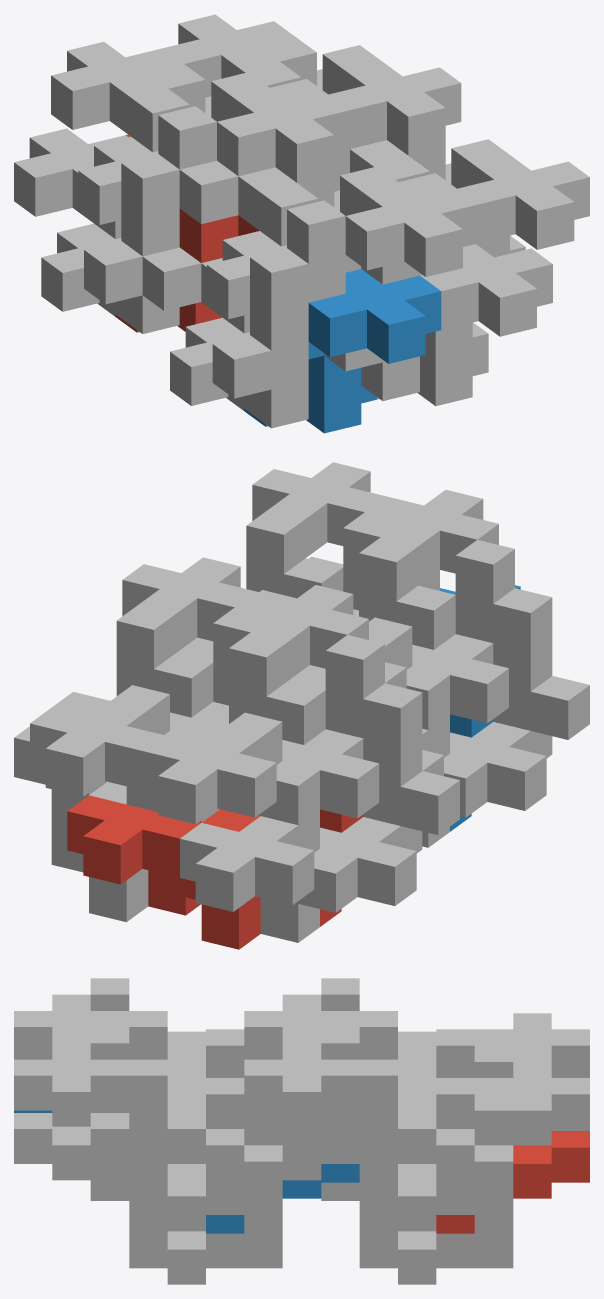
Rendered from tiling.obj.
The picture shows the model from 3 angles, top to bottom: view 1: azimuth 30°, elevation 25°; view 2: azimuth 150°, elevation 25°; view 3: azimuth 270°, elevation 25°; orthographic projection. The views are drawn at different scales.
Parts seen in each view (by area): view 1: copy_3_domain_2, copy_4_domain_4, copy_3_domain_4, copy_4_domain_3, copy_4_domain_2, copy_3_domain_1, copy_4_domain_8, copy_4_domain_7, copy_4_domain_6, copy_3_domain_3, copy_2_domain_3, copy_2_domain_4 (+15 smaller); view 2: copy_3_domain_3, copy_3_domain_4, copy_3_domain_1, copy_3_domain_2, copy_4_domain_7, copy_4_domain_3, copy_4_domain_4, copy_2_domain_1, copy_4_domain_8, copy_2_domain_3, copy_2_domain_7, copy_2_domain_5 (+10 smaller); view 3: copy_4_domain_7, copy_4_domain_8, copy_1_domain_7, copy_2_domain_7, copy_1_domain_8, copy_1_domain_5, copy_1_domain_6, copy_4_domain_6, copy_4_domain_3, copy_4_domain_4, copy_2_domain_3, copy_2_domain_8 (+11 smaller).
Boxes of the visible parts, x1,y1,x2,y2 form: copy_3_domain_2: (170,296,308,428); copy_4_domain_4: (340,166,478,276); copy_3_domain_4: (207,200,345,319); copy_4_domain_3: (211,72,349,182); copy_4_domain_2: (308,269,441,394); copy_3_domain_1: (41,202,179,333); copy_4_domain_8: (451,139,589,257); copy_4_domain_7: (322,45,461,155); copy_4_domain_6: (420,244,552,367); copy_3_domain_3: (78,106,216,224); copy_2_domain_3: (51,41,189,152); copy_2_domain_4: (179,160,318,246); copy_3_domain_3: (260,635,422,824); copy_3_domain_4: (406,539,552,729); copy_3_domain_1: (298,732,459,912); copy_3_domain_2: (444,637,589,817); copy_4_domain_7: (116,557,255,717); copy_4_domain_3: (229,585,368,744); copy_4_domain_4: (359,490,498,649); copy_2_domain_1: (180,809,319,942); copy_4_domain_8: (246,462,385,598); copy_2_domain_3: (142,712,282,824); copy_2_domain_7: (30,685,169,796); copy_2_domain_5: (67,795,201,915); copy_4_domain_7: (244,1043,397,1180); copy_4_domain_8: (14,1043,167,1180); copy_1_domain_7: (359,1094,513,1231); copy_2_domain_7: (436,1062,589,1180); copy_1_domain_8: (129,1110,282,1231); copy_1_domain_5: (359,1215,513,1284); copy_1_domain_6: (129,1215,282,1284); copy_4_domain_6: (14,1113,167,1233); copy_4_domain_3: (244,994,397,1059); copy_4_domain_4: (14,994,167,1059); copy_2_domain_3: (436,1013,589,1077); copy_2_domain_8: (206,1078,359,1180).
Size of the model in its own units: 9 by 6 by 15.
